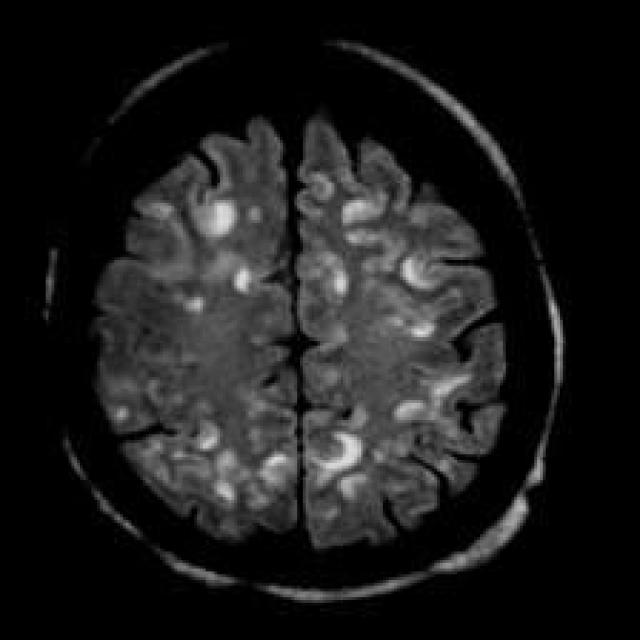no_tumor: (42, 27, 572, 616)
